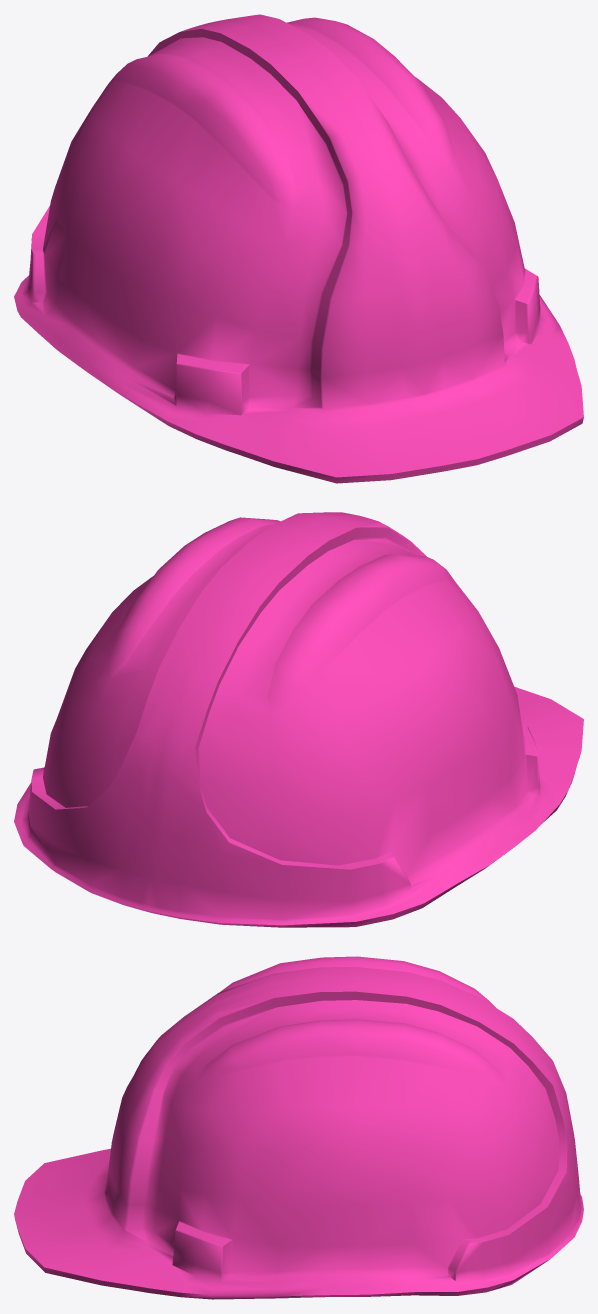
File: Workhat.fbx
The picture shows the model from 3 angles, top to bottom: view 1: azimuth 30°, elevation 25°; view 2: azimuth 150°, elevation 25°; view 3: azimuth 270°, elevation 25°; orthographic projection. The views are drawn at different scales.
Parts seen in each view (by area): view 1: Worker_Helmet_topological; view 2: Worker_Helmet_topological; view 3: Worker_Helmet_topological.
Part boxes in pixels (bbox=[...]): Worker_Helmet_topological: bbox=[14, 14, 583, 483]; Worker_Helmet_topological: bbox=[14, 512, 583, 927]; Worker_Helmet_topological: bbox=[14, 956, 583, 1299].
Bounding box in the file's own units: 195 × 121 × 257.
